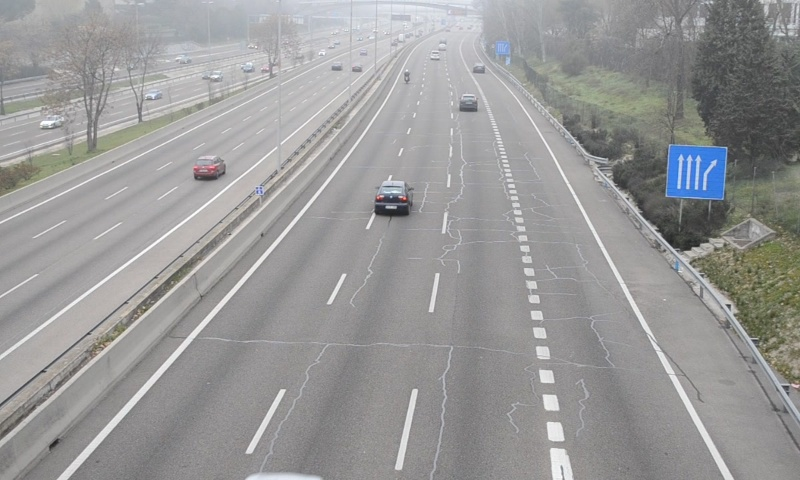car: (374, 180, 413, 215), (459, 93, 478, 112)
motorcycle: (404, 68, 410, 85)
